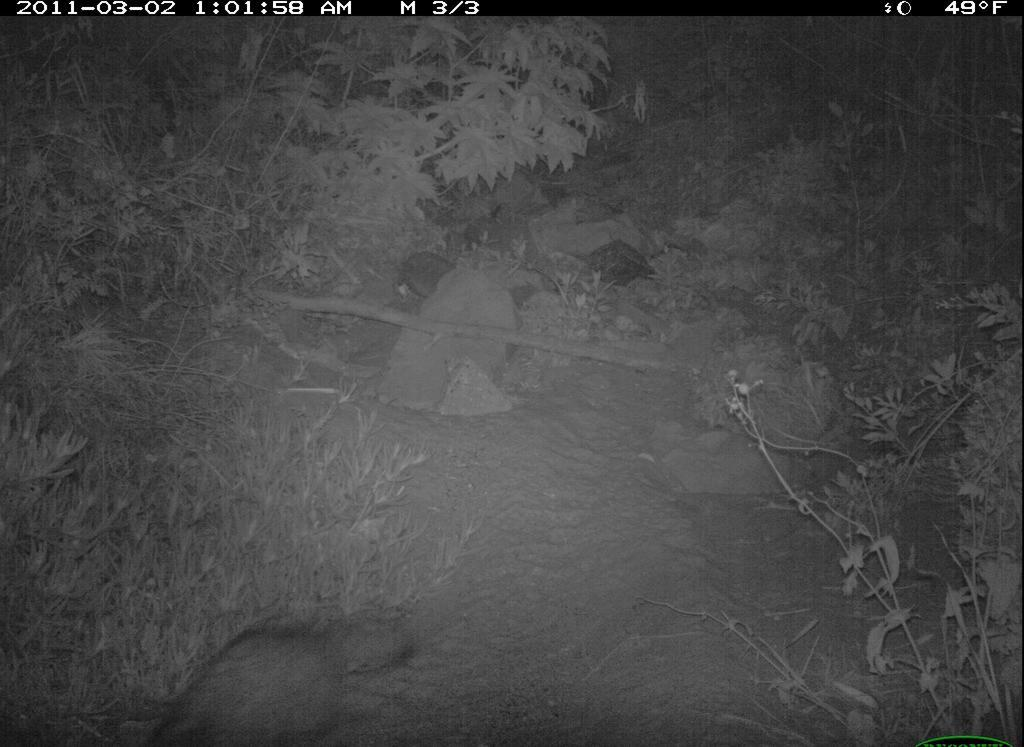raccoon: (112, 592, 436, 747)
